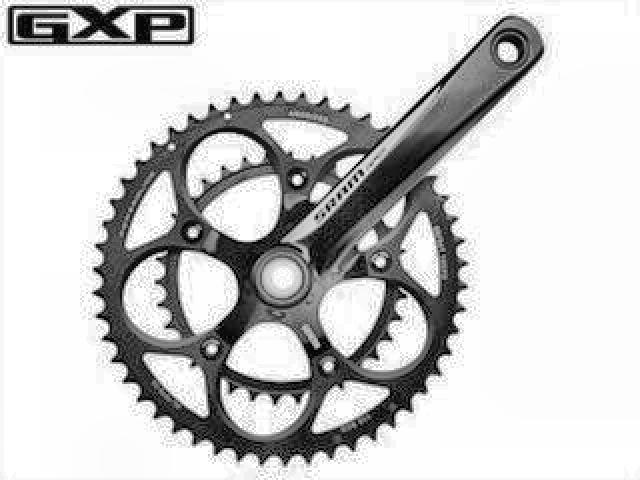cranks_set: (97, 18, 545, 469)
